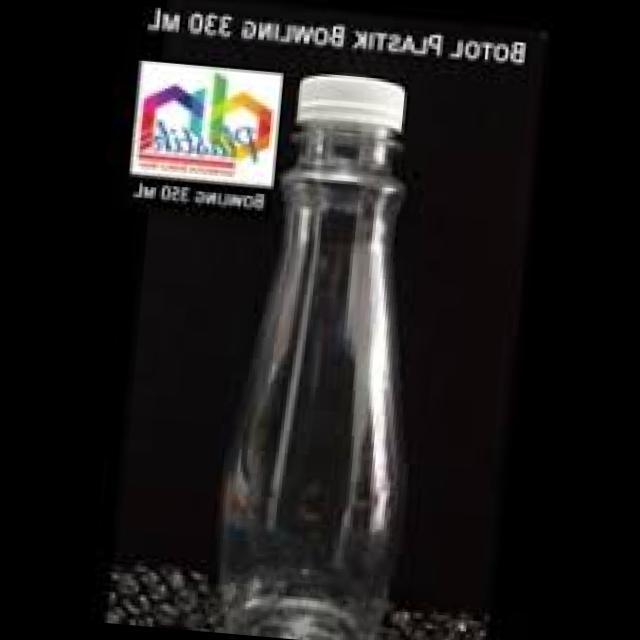good: (192, 65, 472, 640)
